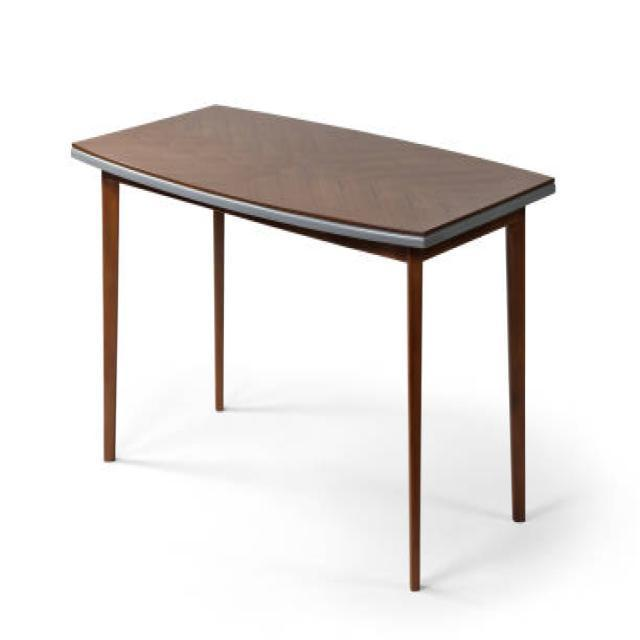table: (70, 100, 556, 592)
